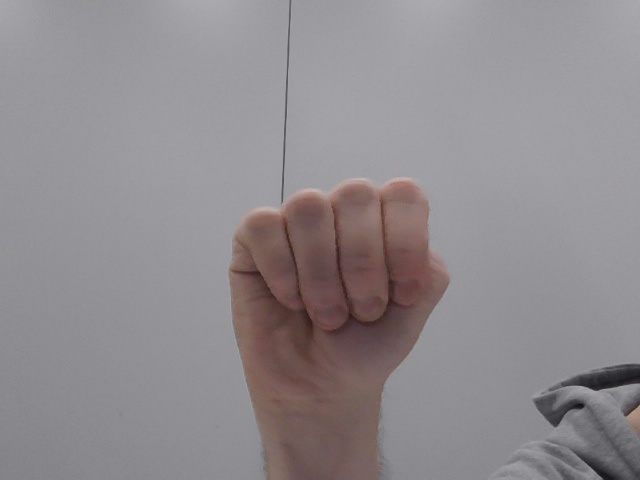down: (211, 162, 465, 417)
